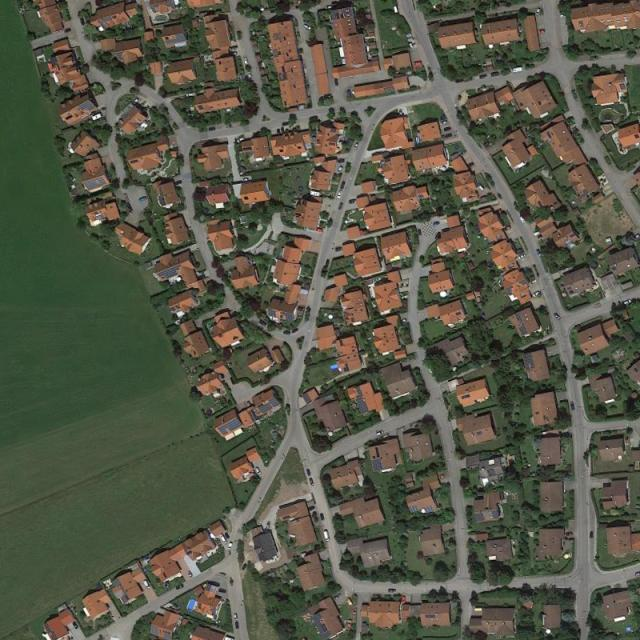vehicle: (322, 529, 331, 542), (219, 533, 227, 544), (511, 66, 522, 74), (174, 583, 185, 590), (554, 312, 562, 321), (533, 290, 542, 298), (255, 466, 262, 476), (227, 542, 234, 552), (144, 580, 151, 590), (622, 299, 632, 306), (140, 195, 148, 203), (334, 593, 342, 601), (477, 184, 485, 192), (336, 166, 344, 174), (535, 249, 542, 258), (376, 430, 385, 437), (491, 71, 500, 78), (517, 254, 526, 261), (466, 162, 475, 169), (570, 401, 576, 411), (187, 570, 194, 578), (259, 320, 268, 326), (320, 513, 326, 522), (309, 478, 315, 487), (306, 468, 312, 477), (303, 24, 312, 30), (338, 202, 344, 211), (354, 142, 360, 151), (237, 31, 242, 41), (337, 190, 342, 200), (80, 18, 86, 26), (64, 28, 72, 34), (187, 92, 195, 98), (73, 622, 79, 630), (536, 8, 542, 16), (349, 199, 357, 205), (336, 247, 344, 253), (480, 73, 488, 79), (340, 182, 346, 190), (459, 150, 467, 156), (444, 126, 452, 132), (441, 120, 449, 126), (283, 330, 292, 335), (234, 613, 239, 622), (242, 562, 247, 571), (388, 589, 397, 594), (237, 137, 244, 143), (497, 193, 503, 200), (132, 98, 139, 104), (291, 328, 298, 334), (266, 521, 271, 529), (504, 225, 512, 230), (445, 134, 453, 139), (334, 78, 339, 86), (536, 30, 545, 34), (433, 221, 439, 227), (209, 126, 216, 131), (225, 532, 230, 539), (245, 58, 249, 66), (248, 71, 252, 79), (218, 589, 226, 593), (242, 178, 249, 182), (236, 622, 240, 629), (590, 531, 594, 538), (418, 230, 422, 235), (131, 1, 135, 3), (126, 1, 130, 2)
